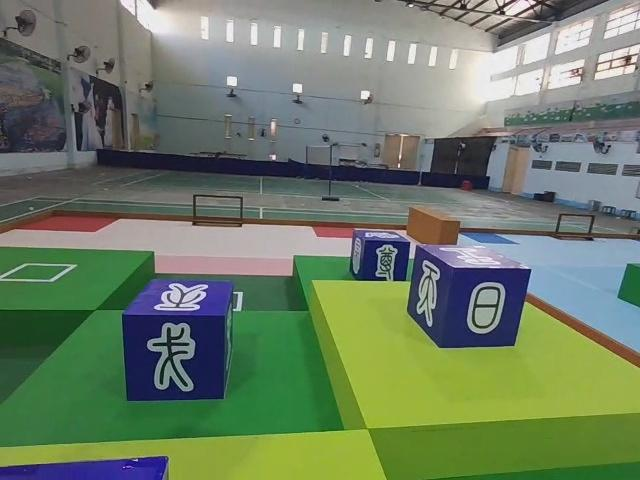R2 Fake Blue: (124, 278, 240, 404), (407, 244, 532, 349), (349, 231, 410, 284)
